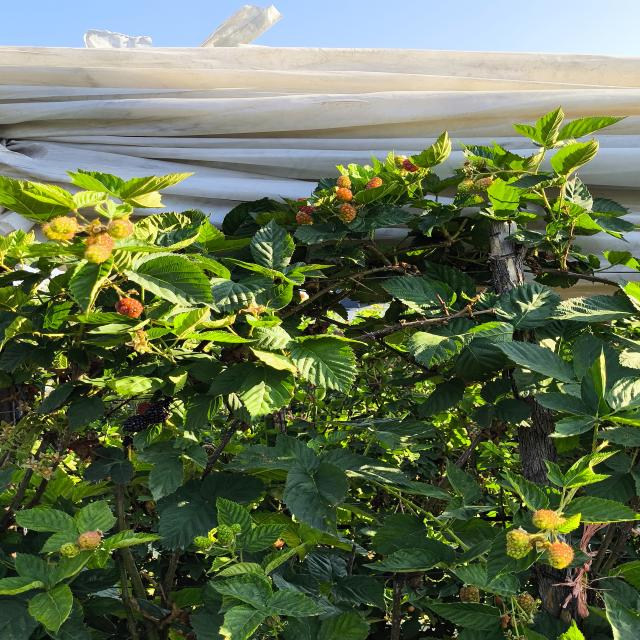maduro: (143, 400, 170, 424), (123, 415, 148, 433)
naranja: (547, 541, 574, 569), (115, 298, 143, 318), (85, 232, 114, 250), (108, 220, 133, 239), (78, 530, 102, 549), (339, 203, 356, 222), (336, 188, 353, 202), (403, 159, 420, 172), (296, 212, 313, 225), (365, 177, 382, 189), (137, 402, 152, 415), (337, 176, 351, 189), (299, 206, 318, 214)
verde: (506, 528, 532, 559), (532, 509, 564, 530), (42, 223, 74, 240), (516, 593, 536, 617), (50, 216, 78, 233), (85, 244, 110, 263), (216, 525, 234, 546), (459, 585, 479, 603), (60, 543, 81, 558), (473, 177, 494, 191), (193, 536, 212, 550), (458, 180, 474, 193), (394, 155, 408, 168), (473, 158, 486, 168), (230, 523, 241, 534)
